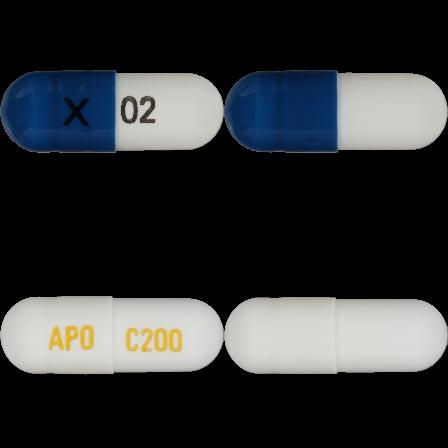61786-935: (0, 0, 224, 224)
